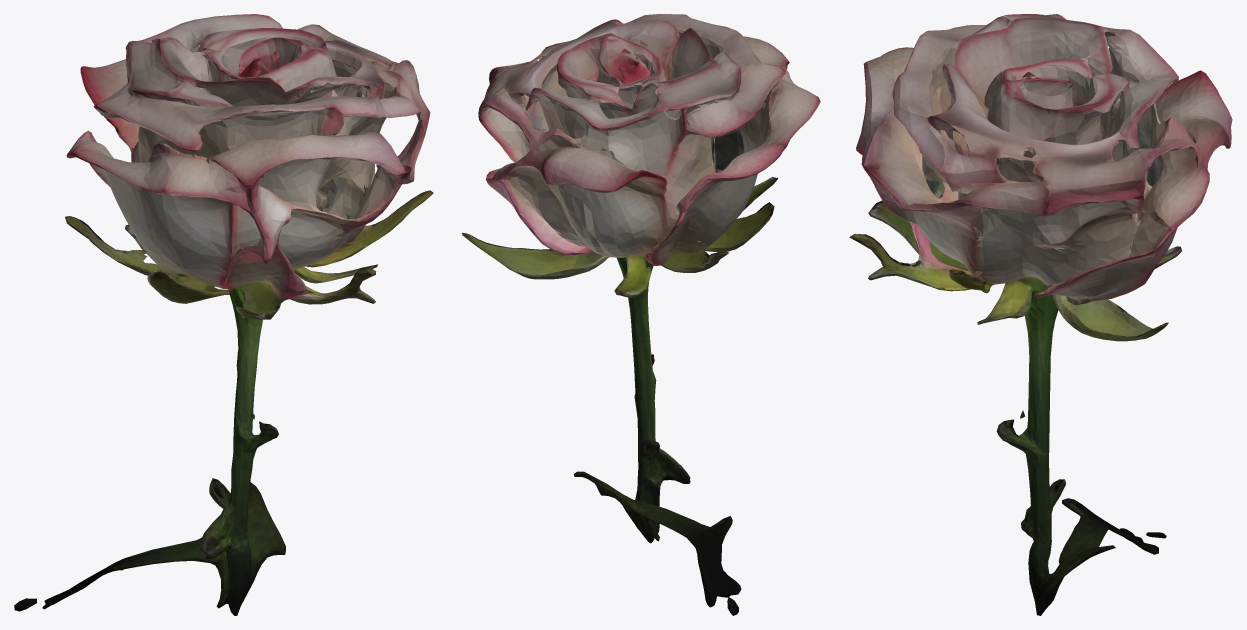
3 renders of one model, left to right at view 1: azimuth 30°, elevation 25°; view 2: azimuth 150°, elevation 25°; view 3: azimuth 270°, elevation 25°, orthographic. The views are drawn at different scales.
Parts seen in each view (by area): view 1: world; view 2: world; view 3: world.
Boxes of the visible parts, bbox=[...] form: world: bbox=[14, 14, 433, 615]; world: bbox=[462, 14, 820, 615]; world: bbox=[849, 14, 1232, 615].
Size of the model in its own units: 0.6188 by 0.977 by 0.5945.
1 material, 1 textured.
